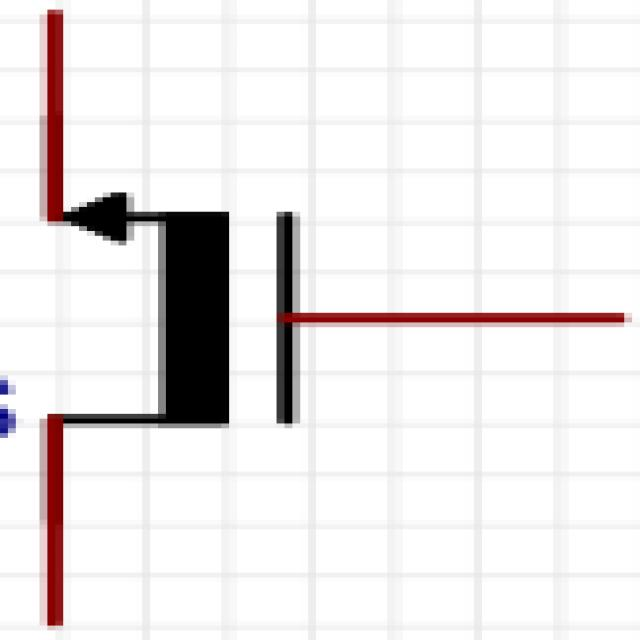nmos: (17, 7, 594, 632)
